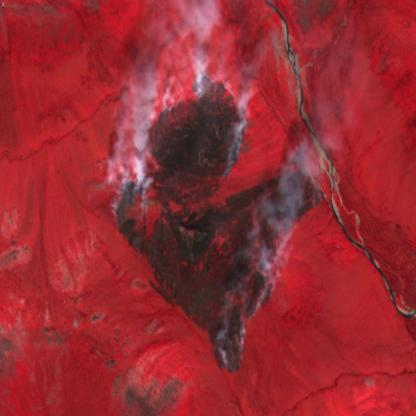fire: (109, 63, 329, 379)
